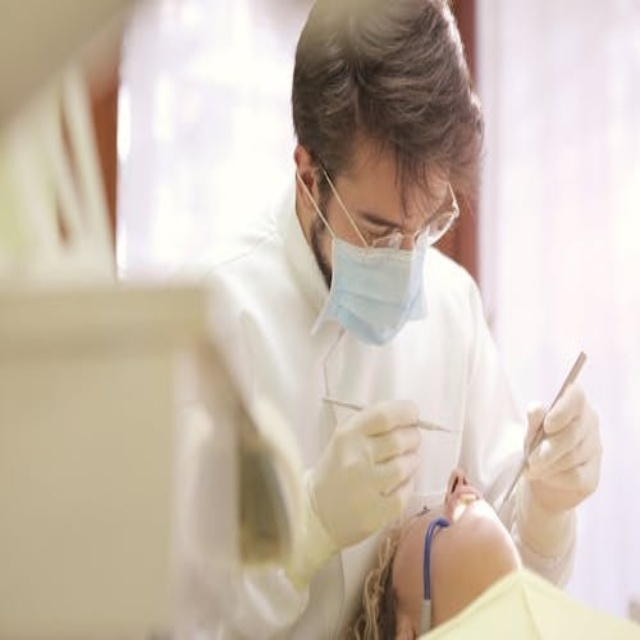Gafas: (314, 161, 460, 250)
Guantes: (291, 397, 423, 576), (519, 379, 603, 518)
Mascara: (308, 165, 448, 345)
